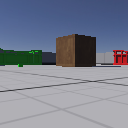green_basket: (1, 48, 42, 66)
green_cube: (18, 63, 23, 68)
obstacle: (55, 33, 96, 67)
red_basket: (112, 49, 128, 65)
